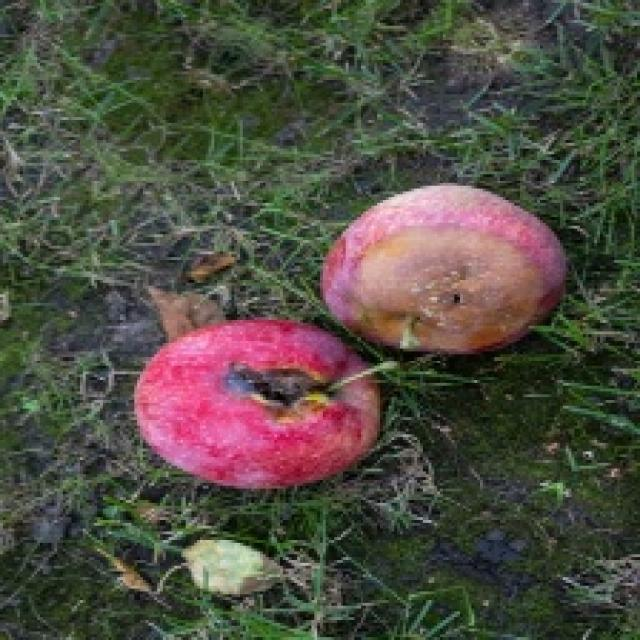rotten_apple: (327, 188, 563, 348), (138, 323, 375, 481)
